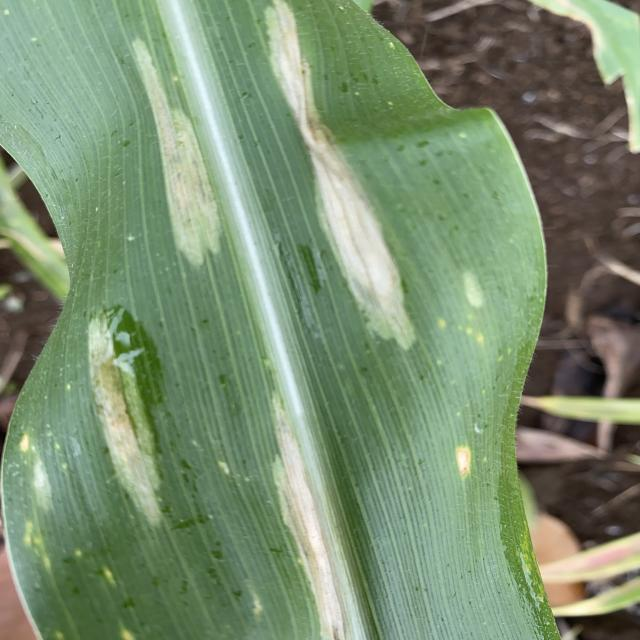Corn_Leaf_Blight: (30, 11, 508, 640)
